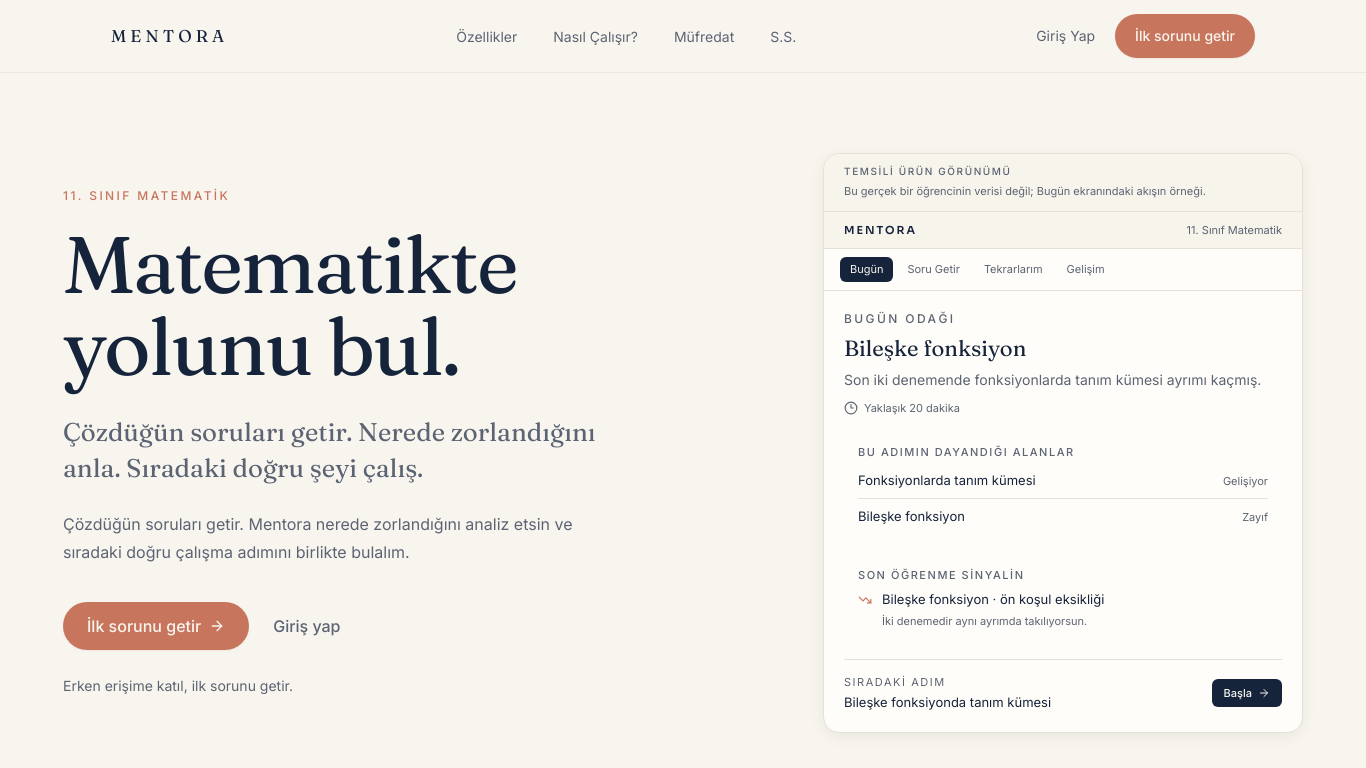
Test: App › returns to the landing page from the auth screen
The width and height of the screenshot is (1366, 768).
Expected: the heading named "Matematikte yolunu bul" is shown, [63,215,517,395]
Click the button "Giriş yap" at (307, 626), box [249,602,364,650]
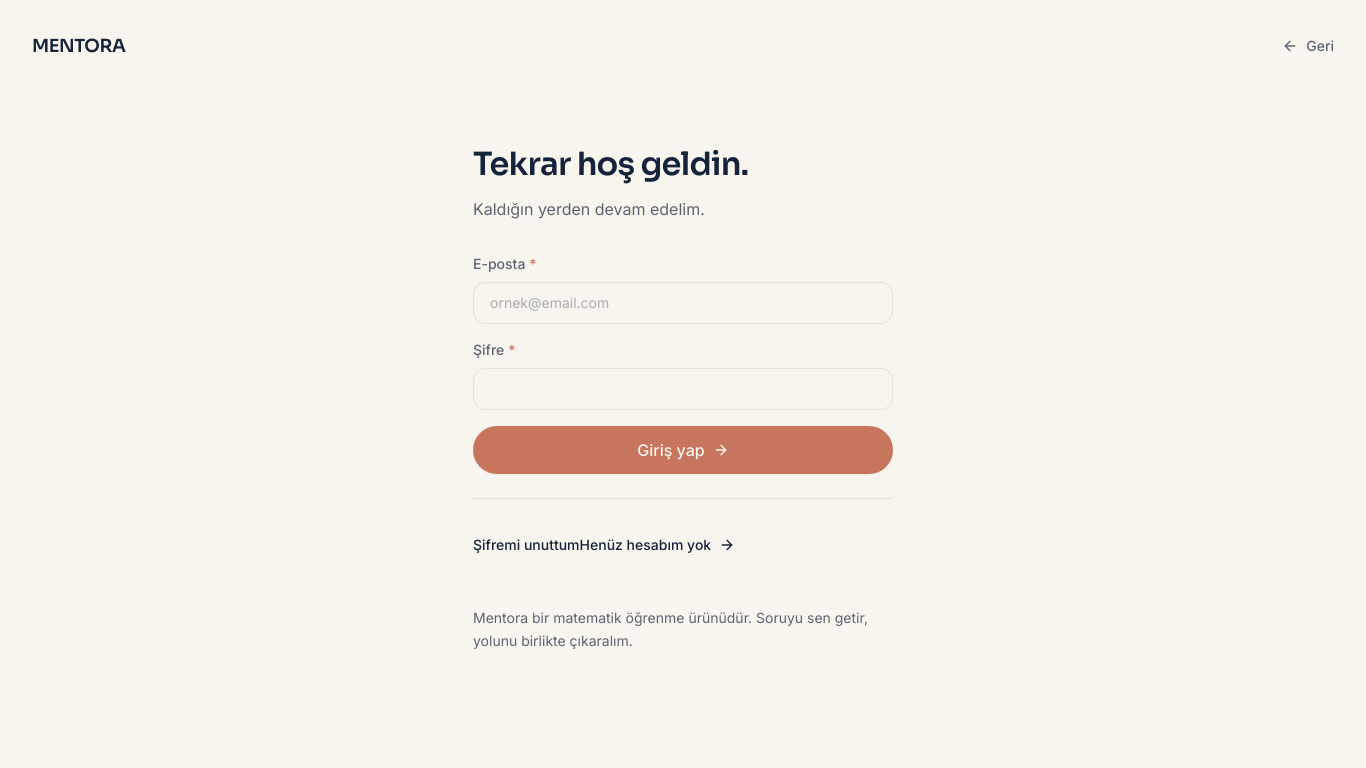
Result: the heading "Tekrar hoş geldin." is shown at [473,144,748,184]
Click the button "Geri" at (1308, 46), box [1282,24,1334,68]
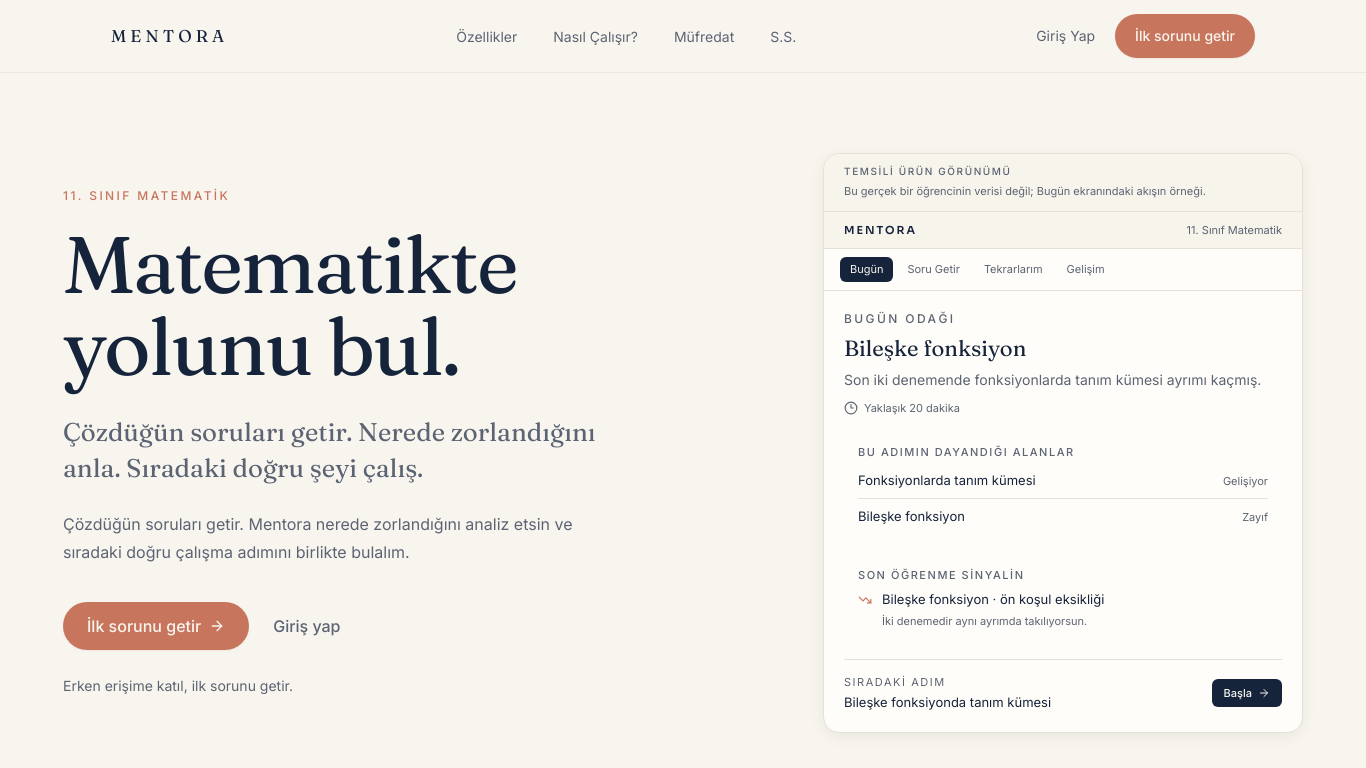
Result: the heading named "Matematikte yolunu bul" is shown at [63,215,517,395]
